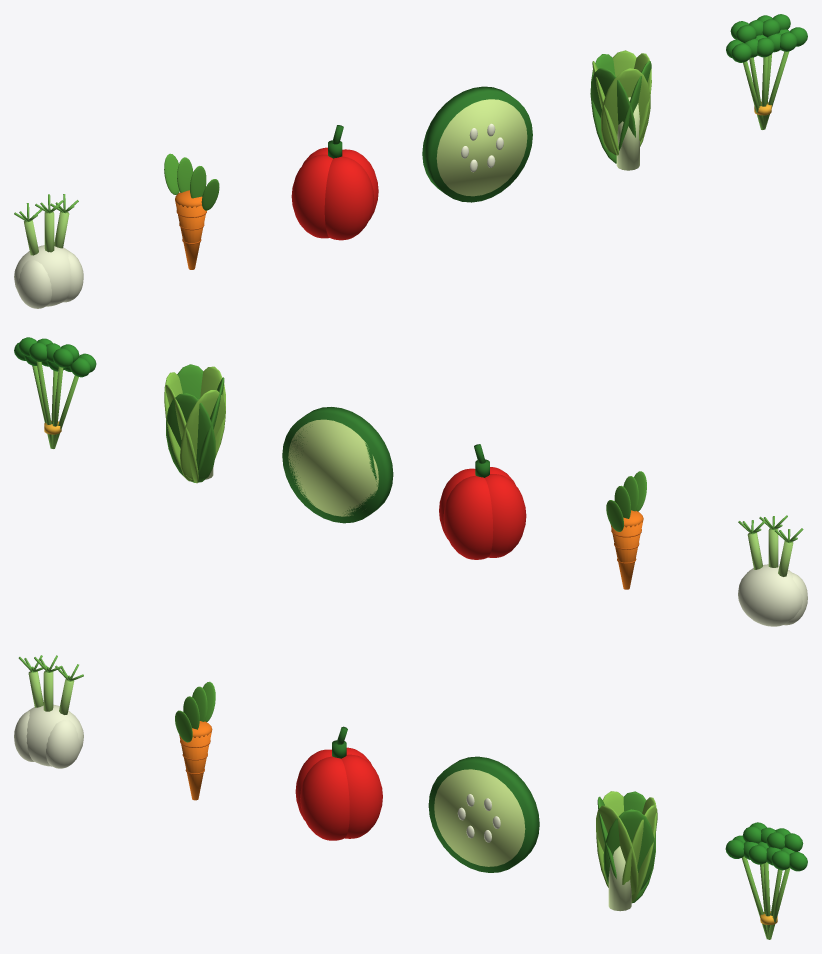
The model's file is vegetables.glb.
3 renders of one model, top to bottom at view 1: azimuth 30°, elevation 25°; view 2: azimuth 150°, elevation 25°; view 3: azimuth 330°, elevation 25°, orthographic.
Visible parts, largest first — view 1: cucumber, bell-pepper, romaine, fennel, parsley, carrot; view 2: cucumber, bell-pepper, romaine, fennel, parsley, carrot; view 3: cucumber, bell-pepper, romaine, fennel, parsley, carrot.
Part boxes in pixels (<box>): cucumber: <box>422,86,532,202</box>; bell-pepper: <box>291,125,378,240</box>; romaine: <box>590,50,651,170</box>; fennel: <box>14,194,83,308</box>; parsley: <box>726,14,807,129</box>; carrot: <box>164,153,219,269</box>; cucumber: <box>282,407,393,523</box>; bell-pepper: <box>439,444,526,559</box>; romaine: <box>164,364,225,483</box>; fennel: <box>738,515,807,626</box>; parsley: <box>14,337,96,448</box>; carrot: <box>606,471,646,589</box>; cucumber: <box>428,756,539,872</box>; bell-pepper: <box>295,726,382,840</box>; romaine: <box>596,791,657,911</box>; fennel: <box>14,655,83,768</box>; parsley: <box>725,822,807,939</box>; carrot: <box>175,681,215,800</box>.
Size of the model in its own units: 7.68 by 1 by 0.7637.
